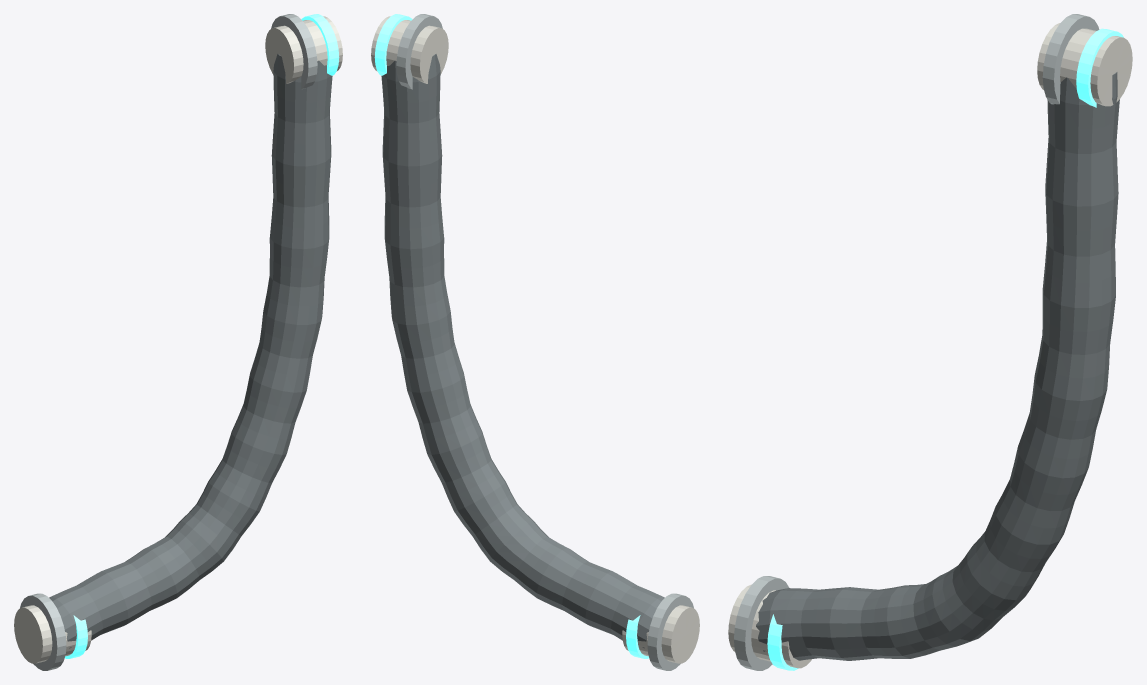
File: s7-i03-hose-riser.glb
3 views of the same model, side by side, from view 1: azimuth 30°, elevation 25°; view 2: azimuth 150°, elevation 25°; view 3: azimuth 330°, elevation 25° (orthographic). The views are drawn at different scales.
Visible parts, largest first — view 1: 000_actual_curved_hose_swept_3d, 004_end_1_sealing_socket, 001_end_0_sealing_socket, 003_end_0_locking_collar, 006_end_1_locking_collar, 005_end_1_cyan_snap_seal; view 2: 000_actual_curved_hose_swept_3d, 004_end_1_sealing_socket, 001_end_0_sealing_socket, 003_end_0_locking_collar, 006_end_1_locking_collar, 005_end_1_cyan_snap_seal; view 3: 000_actual_curved_hose_swept_3d, 004_end_1_sealing_socket, 003_end_0_locking_collar, 006_end_1_locking_collar, 001_end_0_sealing_socket, 005_end_1_cyan_snap_seal, 002_end_0_cyan_snap_seal.
Part boxes in pixels (left/top/right/bottom): 000_actual_curved_hose_swept_3d: left=49, top=54, right=332, bottom=648; 004_end_1_sealing_socket: left=265, top=16, right=342, bottom=83; 001_end_0_sealing_socket: left=14, top=605, right=91, bottom=663; 003_end_0_locking_collar: left=20, top=593, right=66, bottom=670; 006_end_1_locking_collar: left=271, top=14, right=317, bottom=89; 005_end_1_cyan_snap_seal: left=301, top=14, right=339, bottom=75; 000_actual_curved_hose_swept_3d: left=381, top=54, right=664, bottom=648; 004_end_1_sealing_socket: left=371, top=16, right=448, bottom=83; 001_end_0_sealing_socket: left=622, top=605, right=699, bottom=663; 003_end_0_locking_collar: left=647, top=593, right=693, bottom=670; 006_end_1_locking_collar: left=396, top=14, right=442, bottom=89; 005_end_1_cyan_snap_seal: left=374, top=14, right=412, bottom=75; 000_actual_curved_hose_swept_3d: left=756, top=72, right=1119, bottom=660; 004_end_1_sealing_socket: left=1037, top=23, right=1132, bottom=106; 003_end_0_locking_collar: left=734, top=576, right=789, bottom=670; 006_end_1_locking_collar: left=1042, top=14, right=1099, bottom=104; 001_end_0_sealing_socket: left=728, top=584, right=811, bottom=668; 005_end_1_cyan_snap_seal: left=1076, top=28, right=1123, bottom=107; 002_end_0_cyan_snap_seal: left=767, top=614, right=798, bottom=670.
Bounding box in the file's own units: 0.4191 × 0.7835 × 0.0935.
